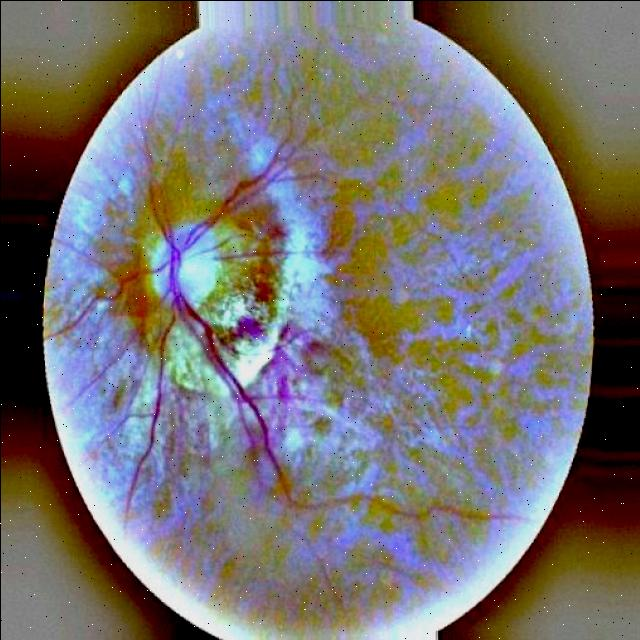Nerves: (180, 296, 433, 517), (168, 148, 284, 278), (127, 284, 177, 497)
Optic Disk: (148, 221, 217, 304)
